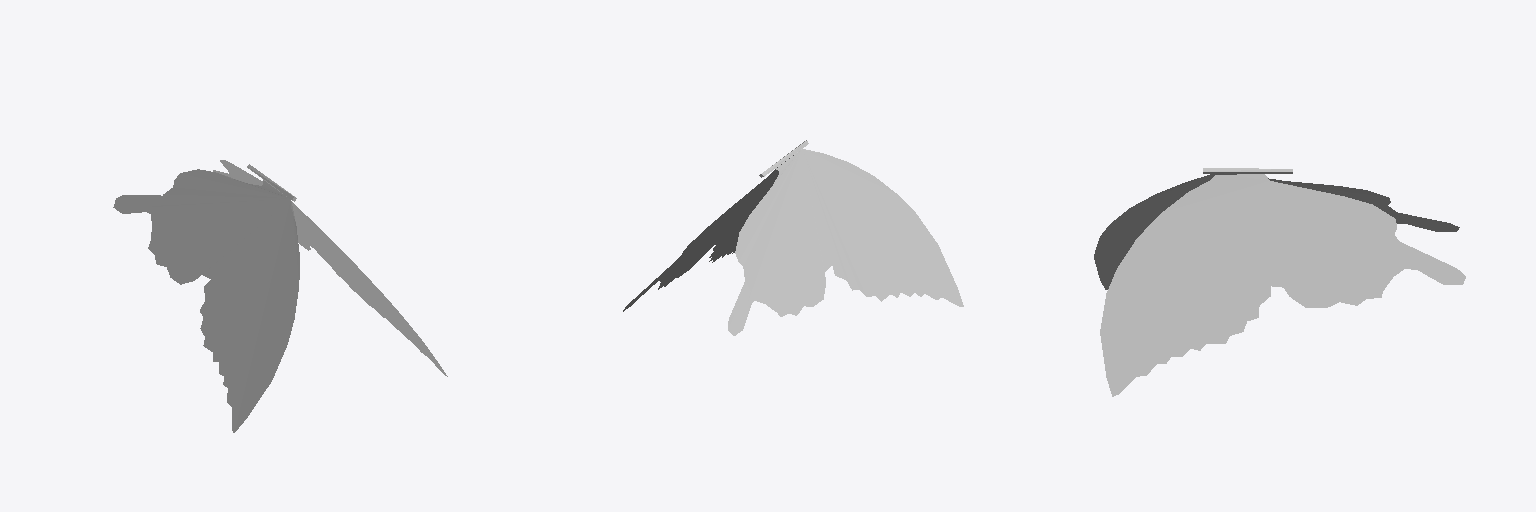
File: mob_17.obj
3 views of the same model, side by side, from view 1: azimuth 30°, elevation 25°; view 2: azimuth 150°, elevation 25°; view 3: azimuth 270°, elevation 25° (orthographic).
Parts seen in each view (by area): view 1: Cube; view 2: Cube; view 3: Cube.
Boxes of the visible parts, x1=… form: Cube: x1=113, y1=160, x2=447, y2=432; Cube: x1=623, y1=140, x2=963, y2=335; Cube: x1=1094, y1=168, x2=1465, y2=396.
Size of the model in its own units: 1.32 by 1.02 by 1.96.